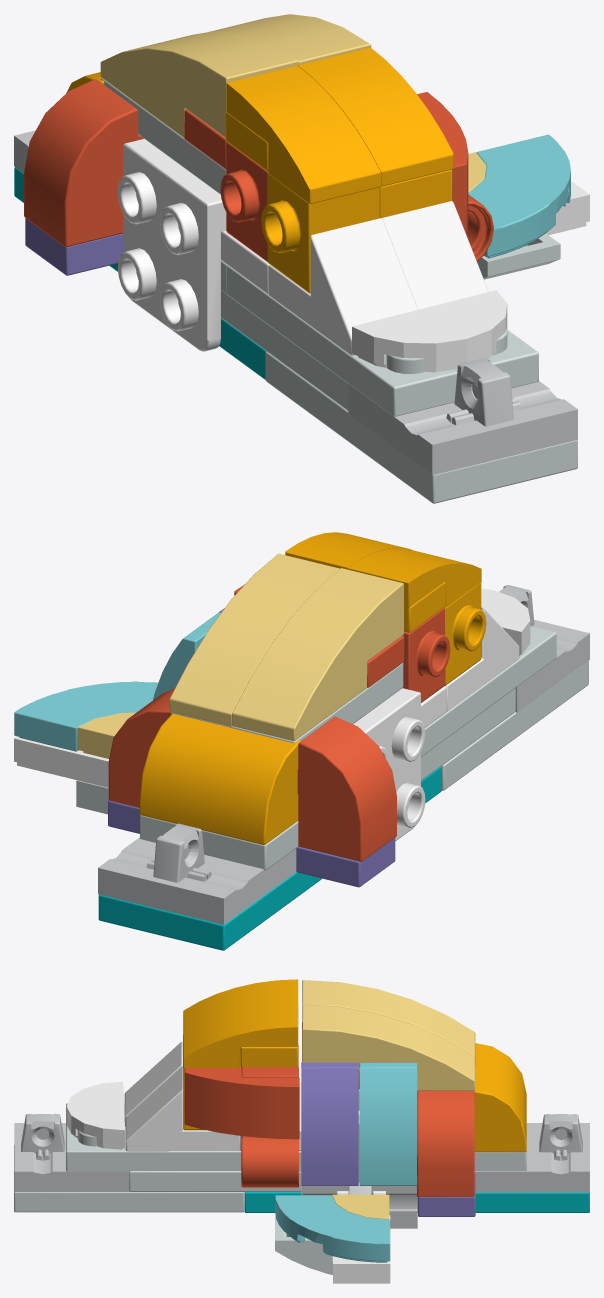
File: Passo27.fbx
3 renders of one model, top to bottom at view 1: azimuth 30°, elevation 25°; view 2: azimuth 150°, elevation 25°; view 3: azimuth 270°, elevation 25°, orthographic. The views are drawn at different scales.
Parts seen in each view (by area): view 1: Bracket__1x2__1_.010, Hinge_plate_2x2__1_.015, Brick_cuved_1x2x1__1_.011, Slope_curved_2x1_1.003, Slope_curved_3x1__1_.005, Slope_2x1_2__1_.012, Slope_curved_2x1__1__1.003, Plate_2x4__2_.014, Plate_2x4__1__1.014, Tile_round_1x2.019, Tile_2x2, Slope_2x1_2.012 (+15 smaller); view 2: Slope_curved_3x1__1_.005, Brick_curved_2x1.013, Brick_cuved_1x2x1__1_.011, Slope_curved_3x1.009, Hinge_plate_2x2_1.004, Plate_2x6.017, Tile_2x2, Bracket__1x2__1_.010, Slope_curved_2x1_1.003, Plate_2x4__2_.014, Brick_cuved_1x2x1.011, Plate_2x4__1__1.014 (+17 smaller); view 3: Slope_curved_3x1.009, Slope_curved_2x1__1_.005, Slope_curved_2x1__2_.001, Slope_curved_2x1.005, Brick_cuved_1x2x1.011, Hinge_plate_2x2_1.004, Tile_2x2, Hinge_plate_2x2__1_.015, Slope_curved_2x1__1__1.003, Brick_curved_2x1.013, Plate_2x4__1__1.014, Slope_2x1_2.012 (+15 smaller).
Part boxes in pixels (<box>): Bracket__1x2__1_.010: <box>117,139,226,351</box>; Hinge_plate_2x2__1_.015: <box>348,358,577,475</box>; Brick_cuved_1x2x1__1_.011: <box>24,79,143,247</box>; Slope_curved_2x1_1.003: <box>226,65,381,204</box>; Slope_curved_3x1__1_.005: <box>100,30,298,137</box>; Slope_2x1_2__1_.012: <box>268,218,418,355</box>; Slope_curved_2x1__1__1.003: <box>297,47,453,186</box>; Plate_2x4__2_.014: <box>226,265,538,416</box>; Plate_2x4__1__1.014: <box>265,351,577,503</box>; Tile_round_1x2.019: <box>352,290,507,372</box>; Tile_2x2: <box>468,134,570,258</box>; Slope_2x1_2.012: <box>382,201,488,309</box>; Slope_curved_3x1__1_.005: <box>232,568,403,741</box>; Brick_curved_2x1.013: <box>139,713,300,844</box>; Brick_cuved_1x2x1__1_.011: <box>297,716,396,861</box>; Slope_curved_3x1.009: <box>169,553,339,726</box>; Hinge_plate_2x2_1.004: <box>98,823,296,924</box>; Plate_2x6.017: <box>98,766,441,950</box>; Tile_2x2: <box>14,681,158,751</box>; Bracket__1x2__1_.010: <box>353,688,425,841</box>; Slope_curved_2x1_1.003: <box>346,548,481,608</box>; Plate_2x4__2_.014: <box>421,626,556,756</box>; Brick_cuved_1x2x1.011: <box>108,688,174,807</box>; Plate_2x4__1__1.014: <box>441,661,588,790</box>; Slope_curved_3x1.009: <box>302,1005,474,1090</box>; Slope_curved_2x1__1_.005: <box>359,1062,417,1185</box>; Slope_curved_2x1__2_.001: <box>184,1068,299,1139</box>; Slope_curved_2x1.005: <box>301,1062,358,1185</box>; Brick_cuved_1x2x1.011: <box>417,1091,474,1197</box>; Hinge_plate_2x2_1.004: <box>474,1114,589,1192</box>; Tile_2x2: <box>275,1195,390,1262</box>; Hinge_plate_2x2__1_.015: <box>14,1113,129,1192</box>; Slope_curved_2x1__1__1.003: <box>183,1003,297,1068</box>; Brick_curved_2x1.013: <box>474,1043,526,1152</box>; Plate_2x4__1__1.014: <box>14,1145,244,1212</box>; Slope_2x1_2.012: <box>125,1066,240,1151</box>.
Size of the model in its own units: 0.5087 by 0.3027 by 0.8002.
